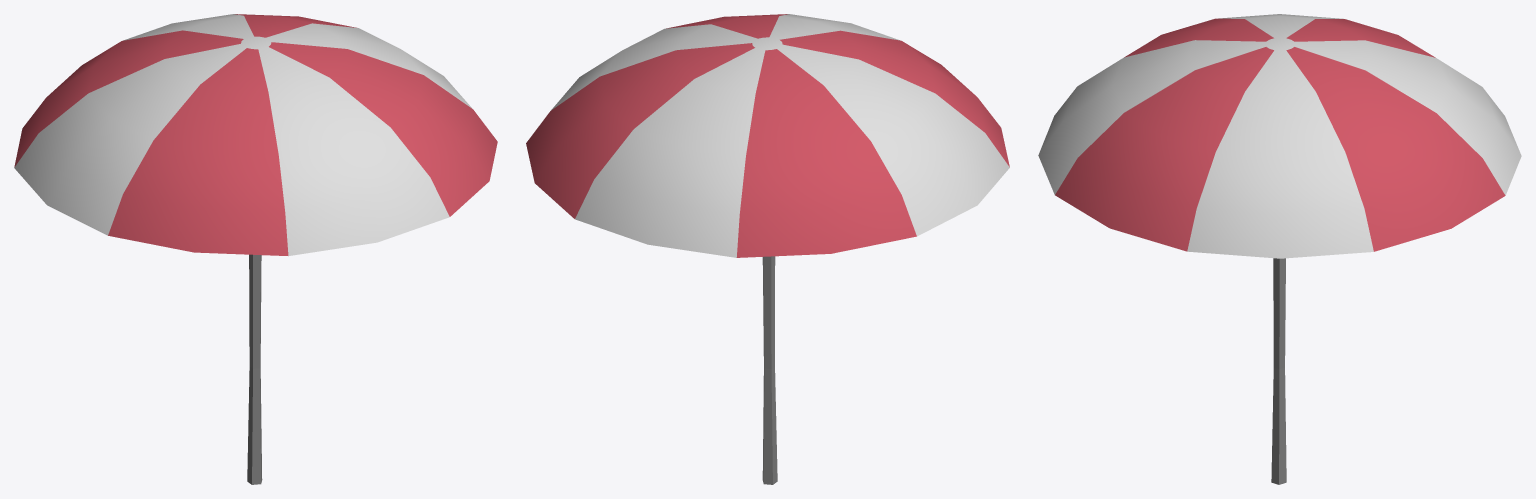
The model's file is BeachUmbrella1.fbx.
3 renders of one model, left to right at view 1: azimuth 30°, elevation 25°; view 2: azimuth 150°, elevation 25°; view 3: azimuth 270°, elevation 25°, orthographic.
Parts seen in each view (by area): view 1: Circle.027; view 2: Circle.027; view 3: Circle.027.
Part boxes in pixels (left/top/right/bottom): Circle.027: left=14, top=14, right=497, bottom=484; Circle.027: left=526, top=14, right=1009, bottom=484; Circle.027: left=1038, top=14, right=1521, bottom=484.
Bounding box in the file's own units: 500 × 500 × 500.
